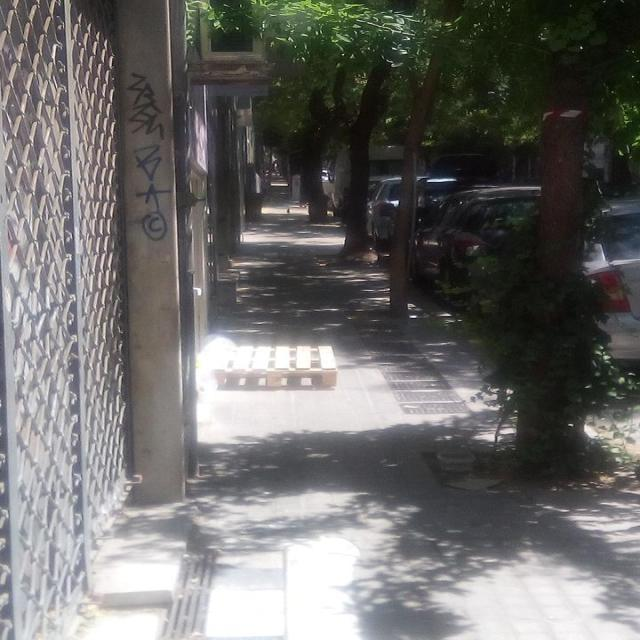nonspitting: (124, 72, 172, 244)
